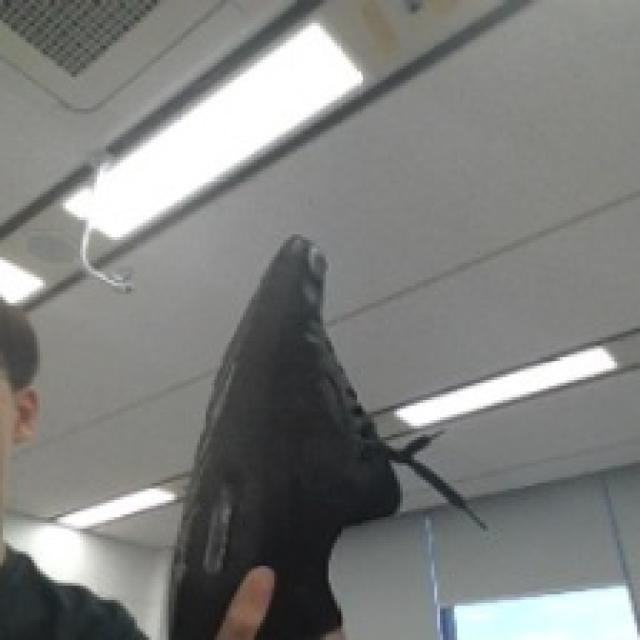shoe: (160, 231, 402, 640)
